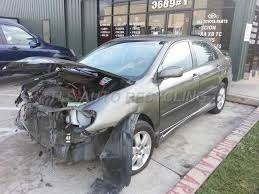Smashed: (13, 62, 139, 163)
